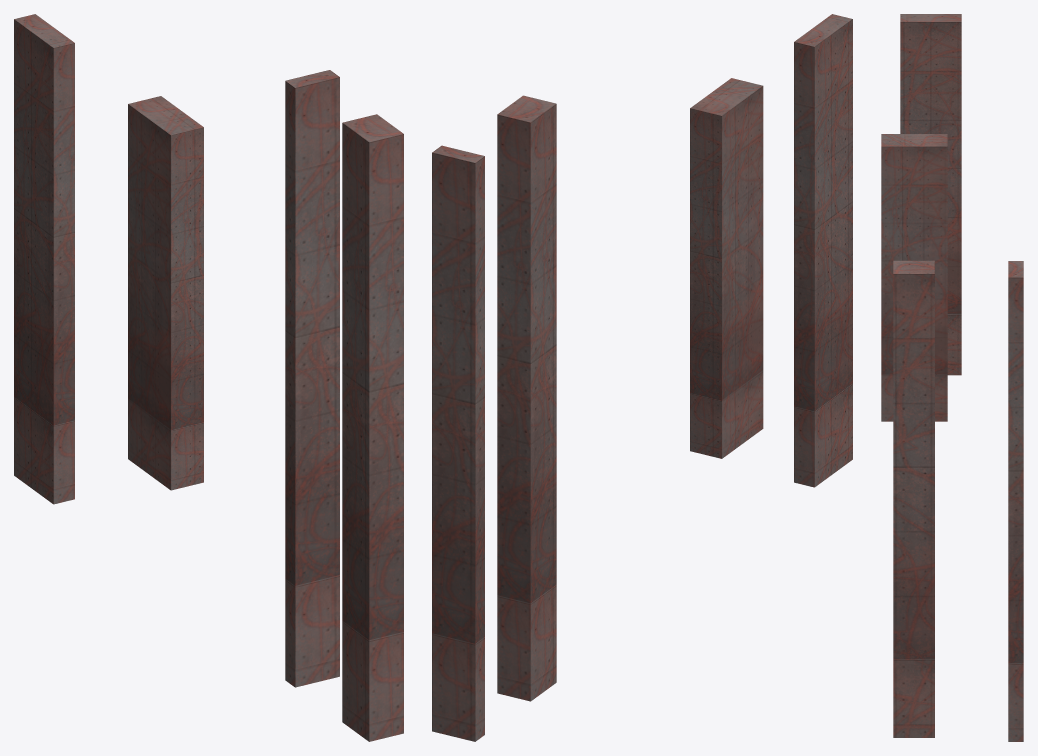
Rendered from P3_platBases.fbx.
3 renders of one model, left to right at view 1: azimuth 30°, elevation 25°; view 2: azimuth 150°, elevation 25°; view 3: azimuth 270°, elevation 25°, orthographic. The views are drawn at different scales.
Parts seen in each view (by area): view 1: p3_platBases; view 2: p3_platBases; view 3: p3_platBases.
Part boxes in pixels (box(x1,y1,x2,y2)): p3_platBases: box(14, 14, 403, 741); p3_platBases: box(432, 14, 852, 741); p3_platBases: box(881, 14, 1023, 741).
Size of the model in its own units: 916 by 1883 by 410.
